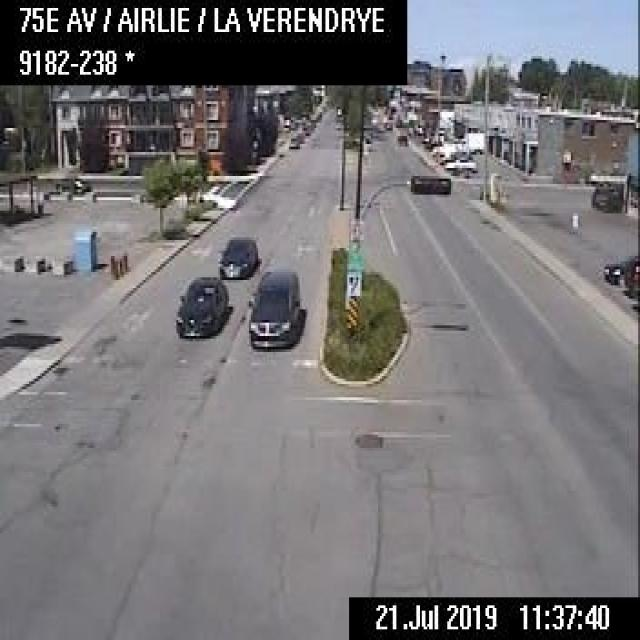construction: (118, 251, 126, 271), (108, 252, 114, 276), (115, 255, 121, 275), (112, 256, 117, 277)
vehicle: (247, 266, 300, 350), (174, 273, 226, 337), (218, 228, 258, 277), (604, 252, 638, 284), (590, 184, 622, 211), (53, 174, 89, 194), (443, 154, 477, 171), (393, 129, 409, 146), (288, 136, 300, 149)
